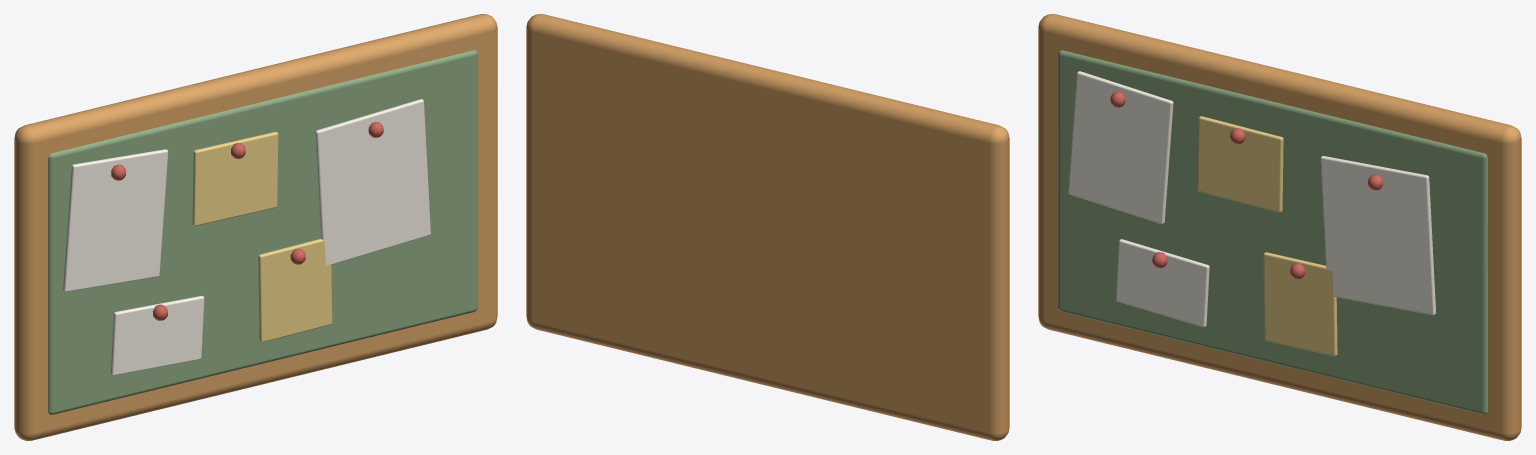
Rendered from green_bulletin_board.glb.
The picture shows the model from 3 angles, left to right: view 1: azimuth 30°, elevation 25°; view 2: azimuth 150°, elevation 25°; view 3: azimuth 330°, elevation 25°; orthographic projection.
Parts seen in each view (by area): view 1: green_bulletin_board_mesh; view 2: green_bulletin_board_mesh; view 3: green_bulletin_board_mesh.
Boxes of the visible parts, x1=… form: green_bulletin_board_mesh: x1=14, y1=14, x2=497, y2=440; green_bulletin_board_mesh: x1=526, y1=14, x2=1009, y2=440; green_bulletin_board_mesh: x1=1038, y1=14, x2=1521, y2=440.
Size of the model in its own units: 0.8 by 0.5 by 0.0664.
